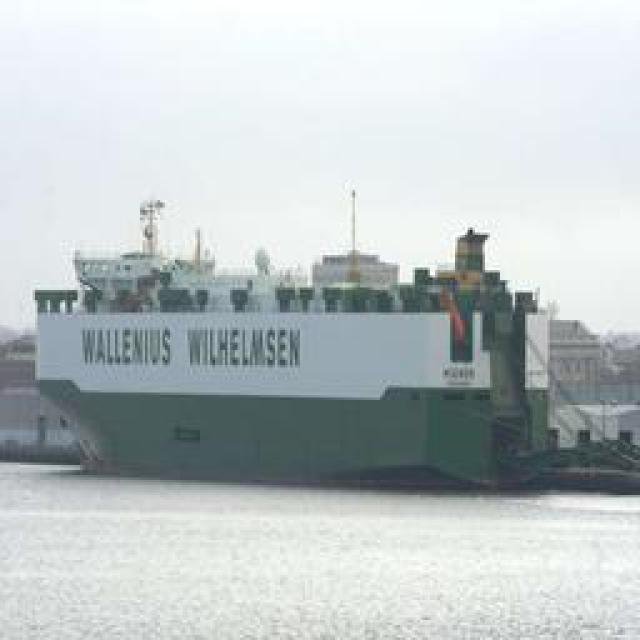Ship: (34, 194, 574, 477)
